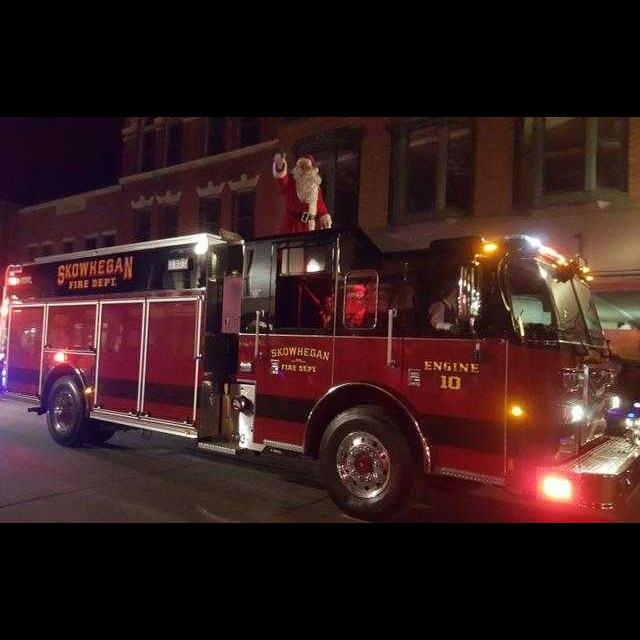emergency: (4, 224, 638, 518)
